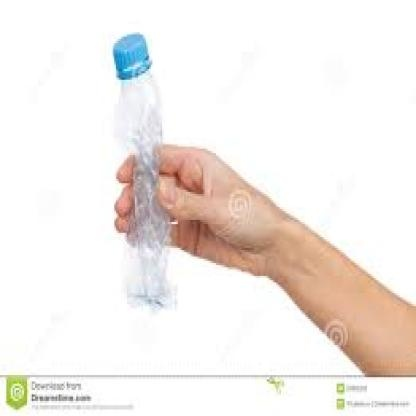trash: (113, 33, 172, 308)
